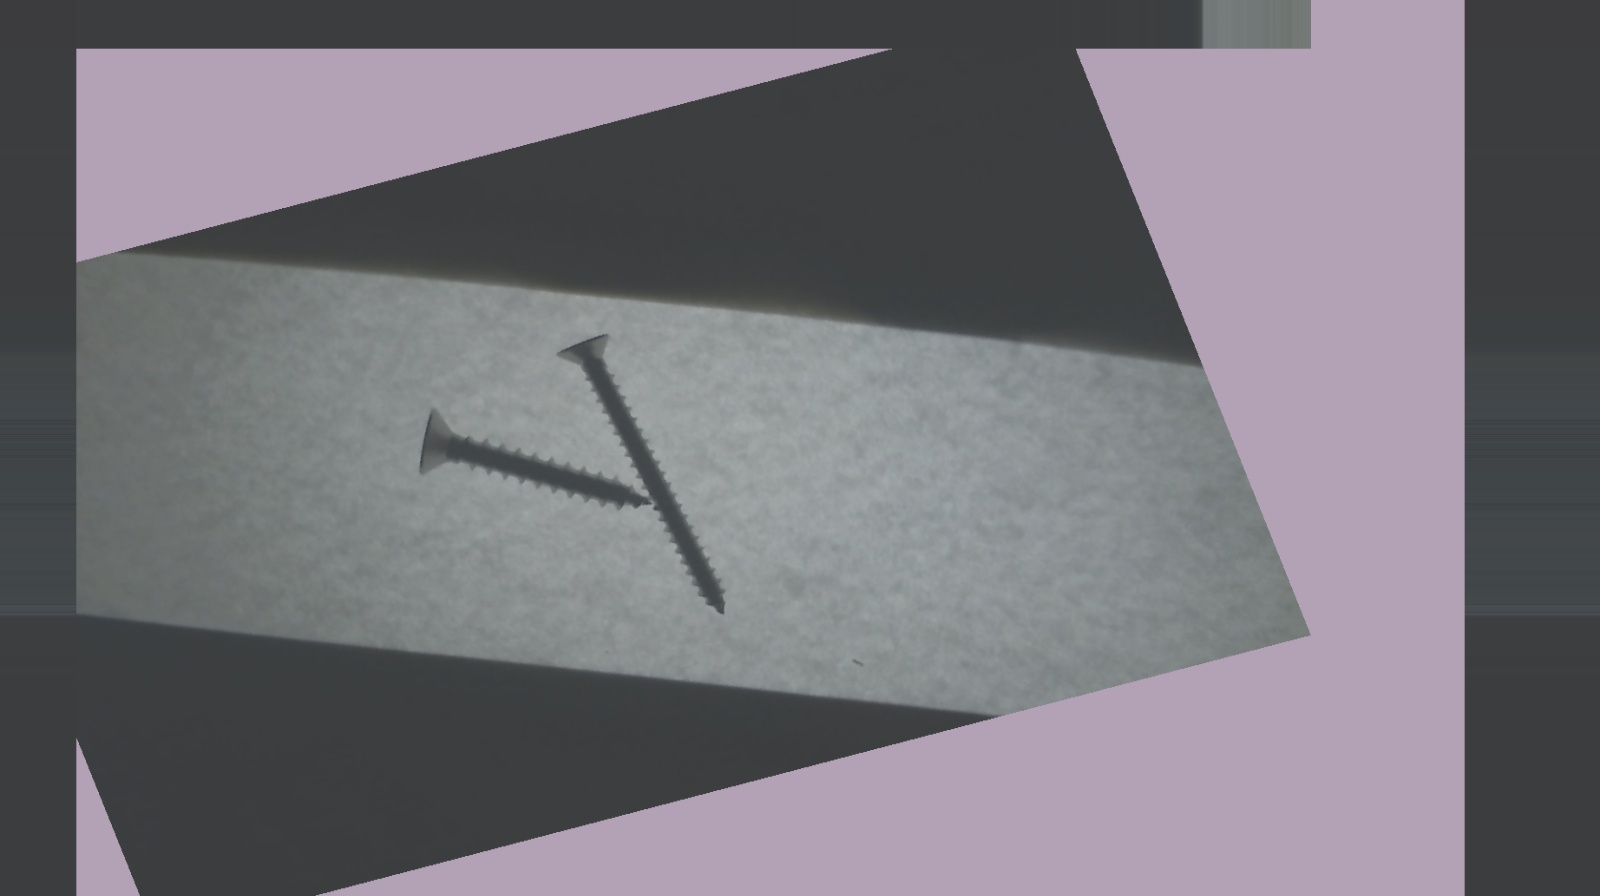S001: (390, 362, 657, 558)
S002: (544, 316, 734, 629)
